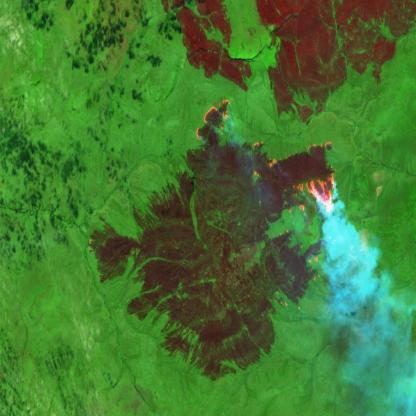fire: (267, 140, 344, 314), (193, 92, 234, 145)
